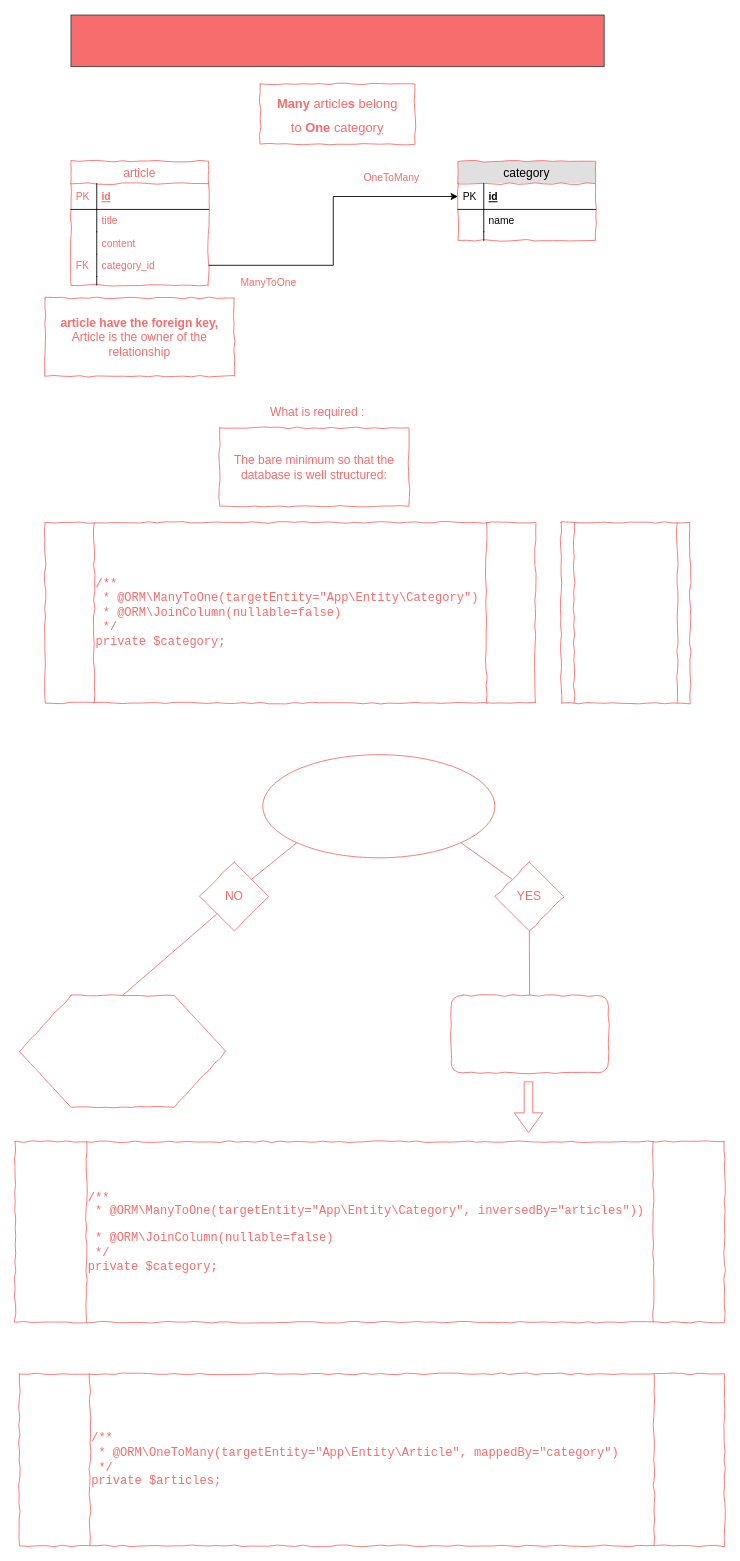
Image size: 740x1561. Some labels were removed from this diagram. The shapes that lost their labels are listed below. From the top down, each one's centre as x and y in pixels, then its label:
(337,40): Entity relationship : ManyToOne/OneToMany
(625,612): Cetegory entity doesn't need any information about the relationship
(378,806): Does my application need to display rticles from a category ?
(122,1051): End of the story, I can keep an unidirectional relatioship
(529,1034): So, I have to set a bidirectional realtioship
